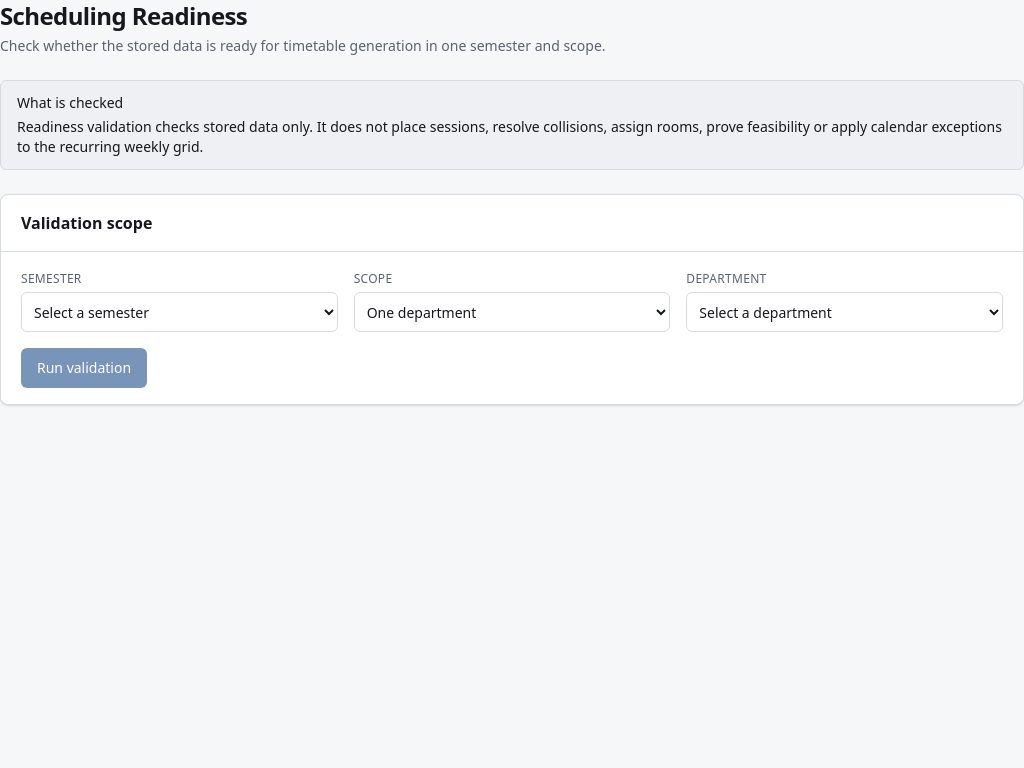
Test: readiness screen › posts a DEPARTMENT scope with the chosen department
Select "2026–2027 · First semester" in the dropdown labelled "Semester" at (179, 312), box [21,292,338,332]
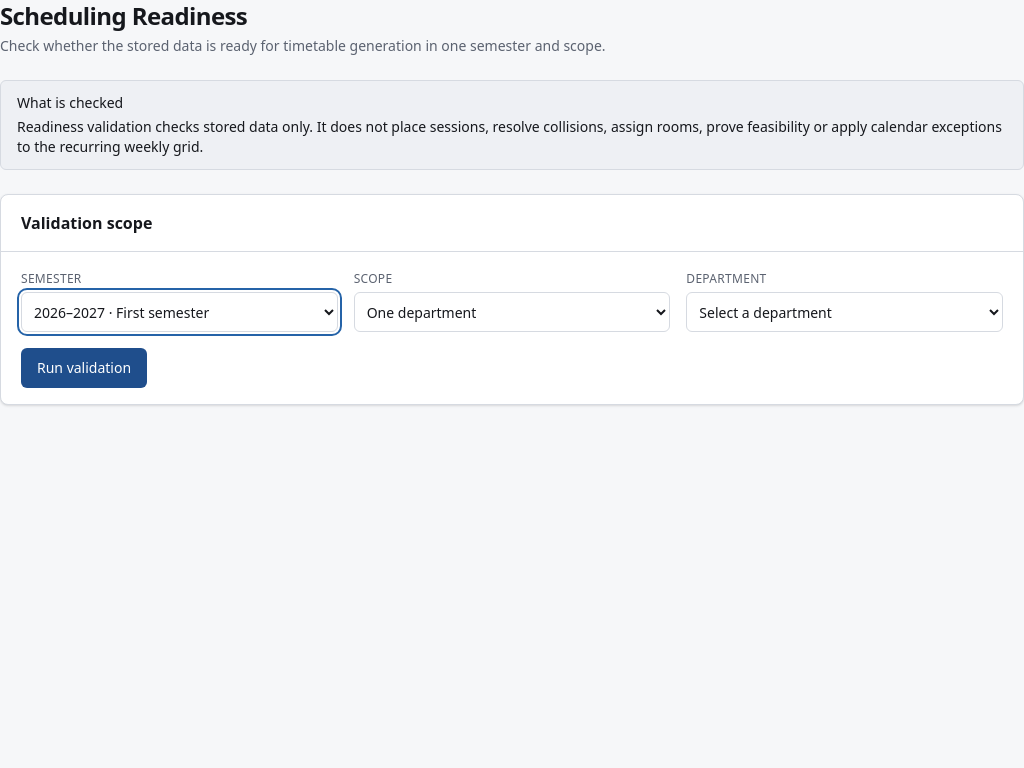
Select "BIOAI — Biomedical AI" in the dropdown labelled "Department" at (845, 312), box [686,292,1003,332]
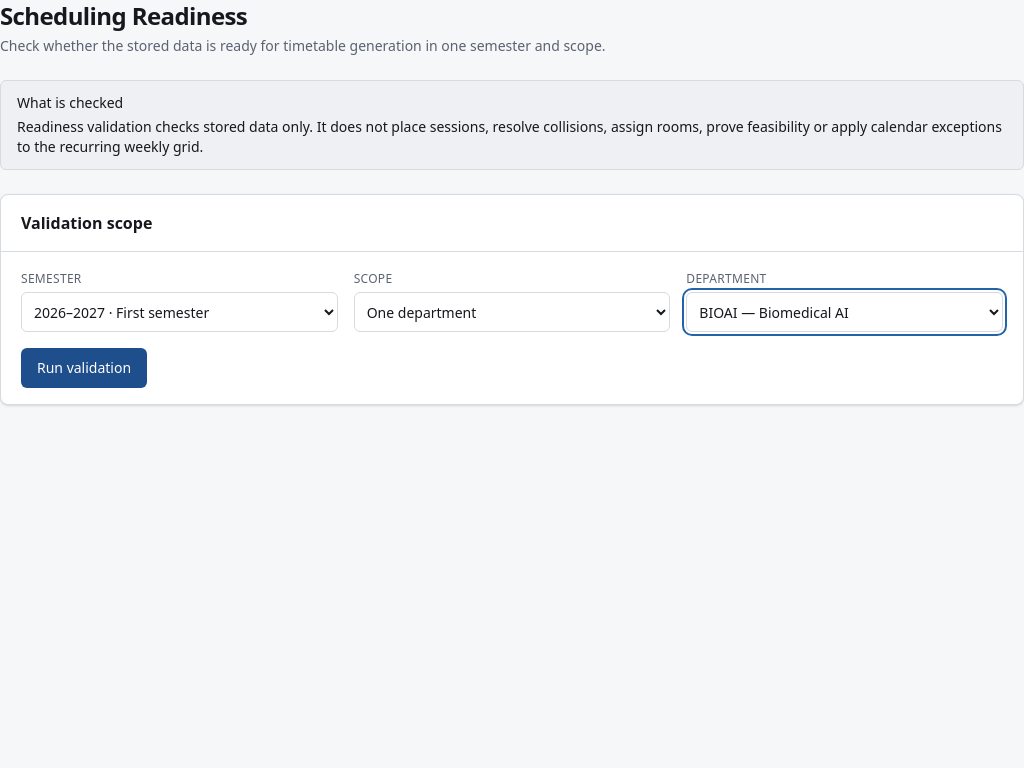
Click the button "Run validation" at (84, 368), box [21,348,147,388]
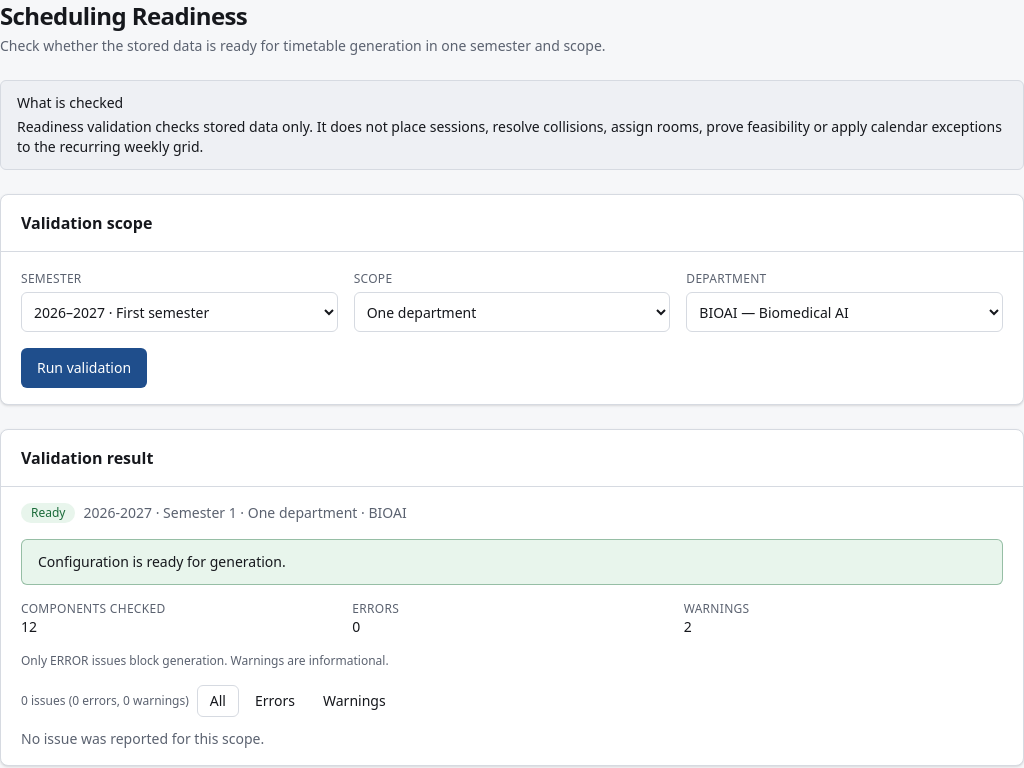
Result: the text "Configuration is ready for generation." is shown at [38,552,286,571]
